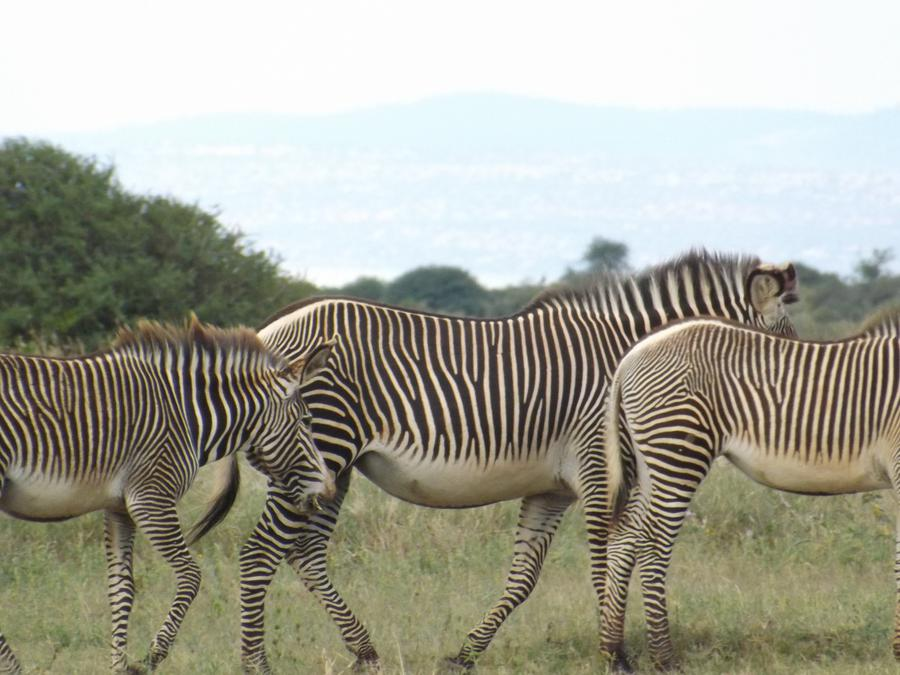zebra_grevys: (249, 273, 601, 472)
